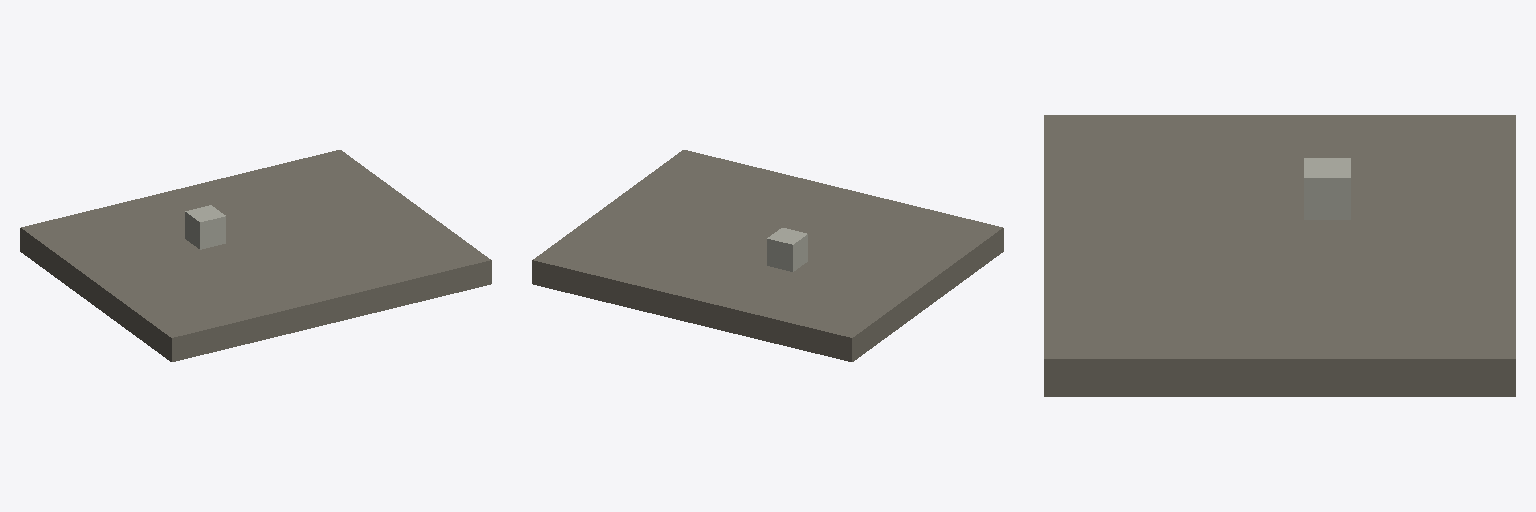
URDF robot description (parttoolgen_hammer_single_cube):
<?xml version="1.0"?>
<robot name="parttoolgen_hammer_single_cube">
  <link name="table_with_target_cube">
    <visual>
      <material name="wood">
        <color rgba="0.52 0.50 0.46 1.0"/>
      </material>
      <origin xyz="0 0 0"/>
      <geometry>
        <box size="0.55 0.45 0.04"/>
      </geometry>
    </visual>
    <collision>
      <origin xyz="0 0 0"/>
      <geometry>
        <box size="0.55 0.45 0.04"/>
      </geometry>
    </collision>

    <visual>
      <material name="target_cube">
        <color rgba="0.72 0.72 0.68 1.0"/>
      </material>
      <origin xyz="-0.06012173006669131 0.04551472066895376 0.042499999999999996"/>
      <geometry>
        <box size="0.045 0.045 0.045"/>
      </geometry>
    </visual>
    <collision>
      <origin xyz="-0.06012173006669131 0.04551472066895376 0.042499999999999996"/>
      <geometry>
        <box size="0.045 0.045 0.045"/>
      </geometry>
    </collision>

    <inertial>
      <mass value="500"/>
      <friction value="1.0"/>
      <inertia ixx="1000.0" ixy="0.0" ixz="0.0" iyy="1000.0" iyz="0.0" izz="1000.0"/>
    </inertial>
  </link>
</robot>

--- Render facts (derived) ---
Views: 3 orthographic renders of the robot side by side, from view 1: azimuth 30°, elevation 25°; view 2: azimuth 150°, elevation 25°; view 3: azimuth 270°, elevation 25°.
Robot: parttoolgen_hammer_single_cube — 1 links, 0 joints (none); root link table_with_target_cube; default pose: all joints at 0.
Visible links, largest first — view 1: table_with_target_cube; view 2: table_with_target_cube; view 3: table_with_target_cube.
Link boxes in pixels (box(x1,y1,x2,y2)): table_with_target_cube: box(20, 150, 491, 361); table_with_target_cube: box(532, 150, 1003, 361); table_with_target_cube: box(1044, 115, 1515, 396).
Bounding box of the posed robot: 0.55 × 0.45 × 0.085 m (x, y, z).
Geometry: primitives only (box / cylinder / sphere), no mesh files.
